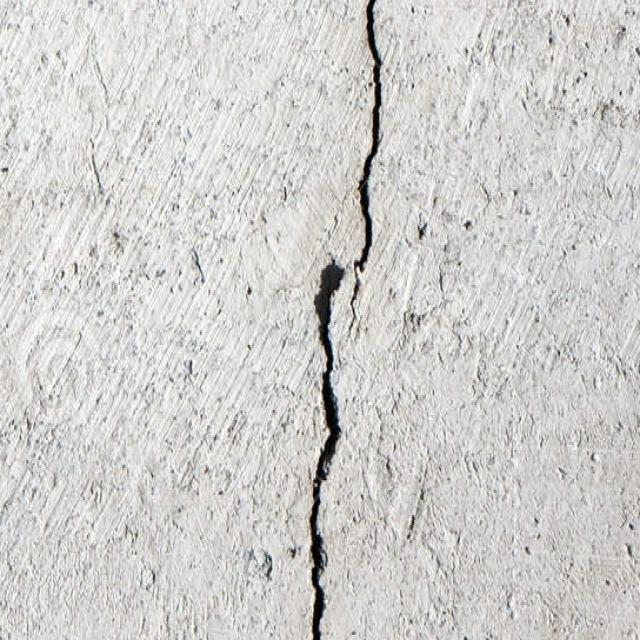Longitudinal: (293, 1, 398, 640)
